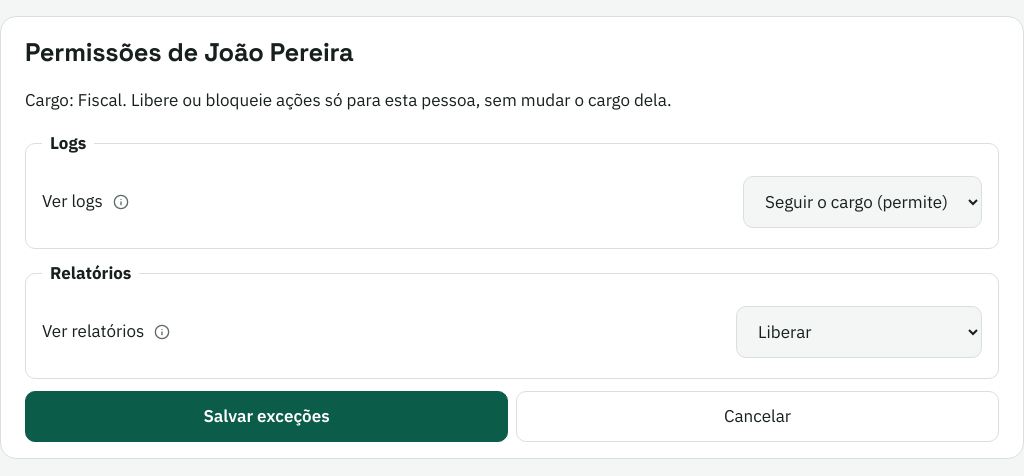
Test: OverridesEditor › bloqueia a tela enquanto salva
Click the button "Salvar exceções": (266, 416) [25,391,508,442]
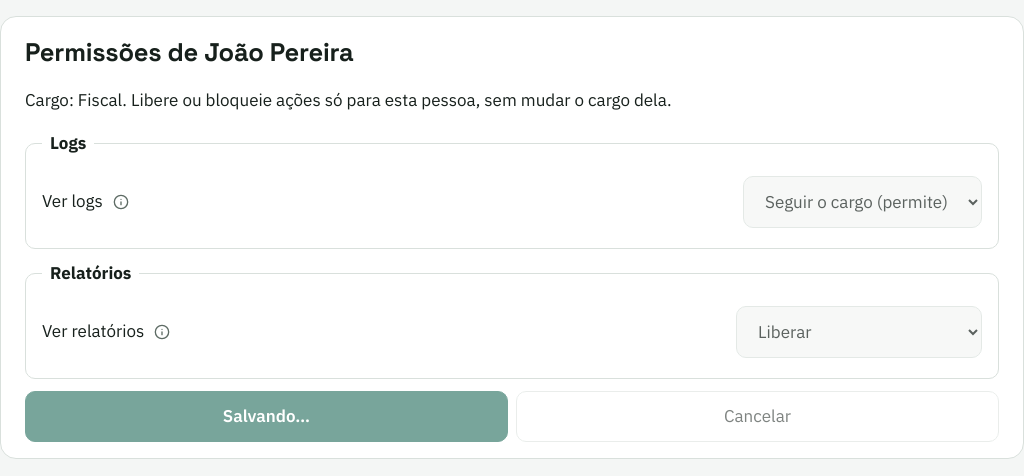
Now the button "Salvando…" is disabled, box [25,391,508,442]
Now the dropdown named "Ver logs" is disabled, box [743,176,982,228]
